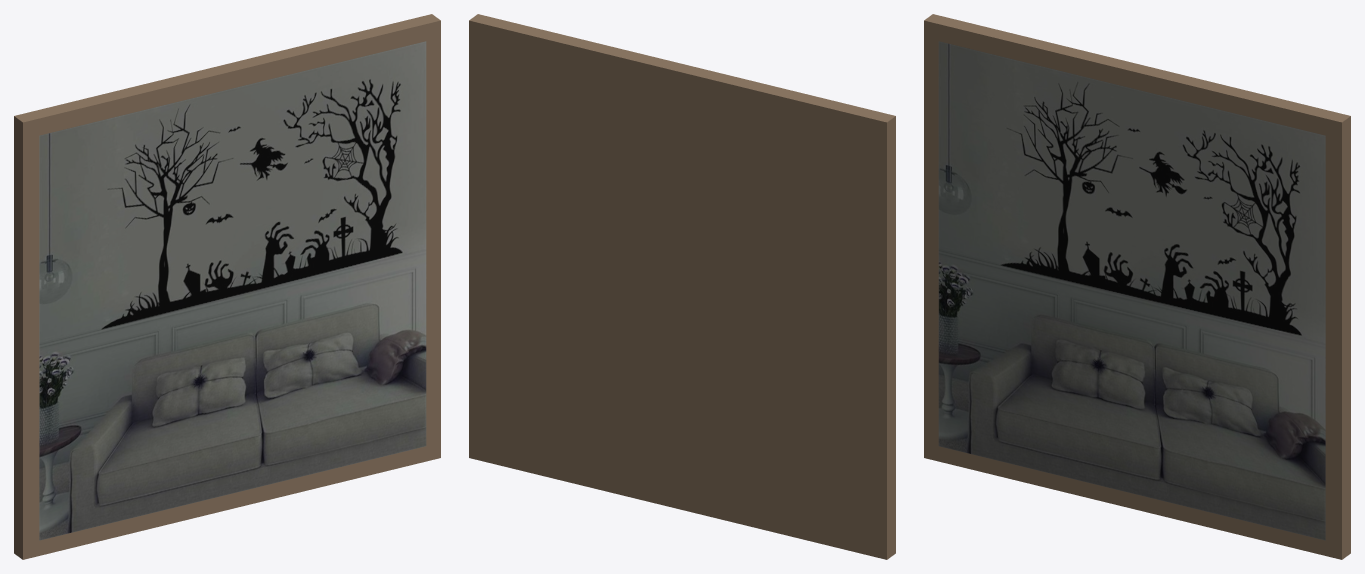
The model's file is B08B4LNMG4.glb.
The picture shows the model from 3 angles, left to right: view 1: azimuth 30°, elevation 25°; view 2: azimuth 150°, elevation 25°; view 3: azimuth 330°, elevation 25°; orthographic projection.
Parts seen in each view (by area): view 1: photo, frame; view 2: frame; view 3: photo, frame.
Part boxes in pixels (x1,y1,x2,y2): photo: (39, 41, 426, 540); frame: (14, 14, 440, 559); frame: (469, 14, 895, 559); photo: (938, 41, 1325, 540); frame: (924, 14, 1350, 559).
Size of the model in its own units: 0.54 by 0.54 by 0.022.
Materials: 1 (1 with a texture image).
